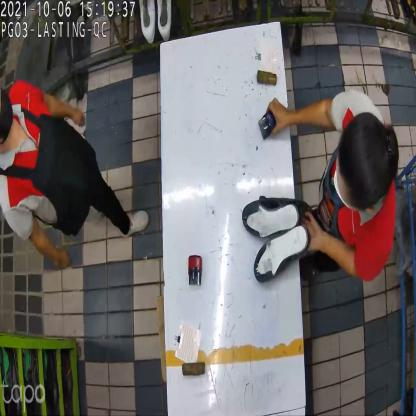shoes: (240, 192, 310, 282)
stamp: (258, 107, 278, 141), (185, 254, 204, 288)
